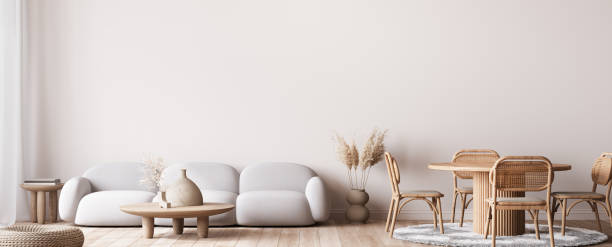dining table set: (383, 145, 612, 246)
flower vase: (331, 125, 386, 225), (138, 152, 173, 207)
sofa: (55, 158, 331, 228)
table: (118, 199, 236, 241)
